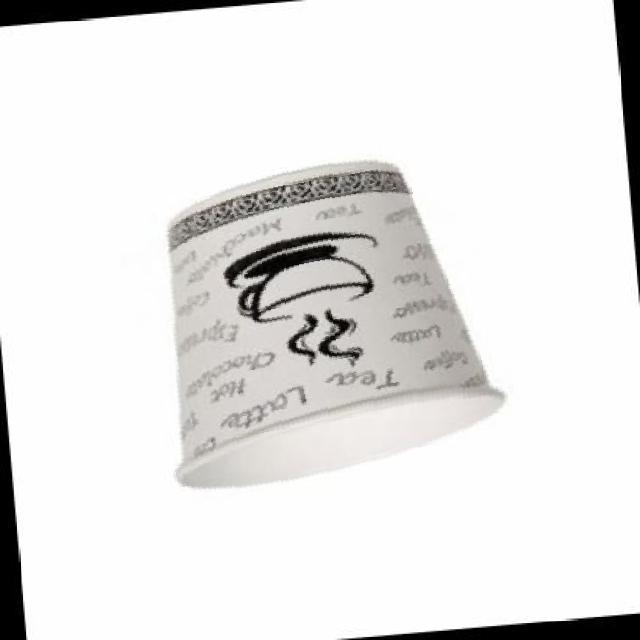non-biodegradable: (86, 119, 522, 561)
